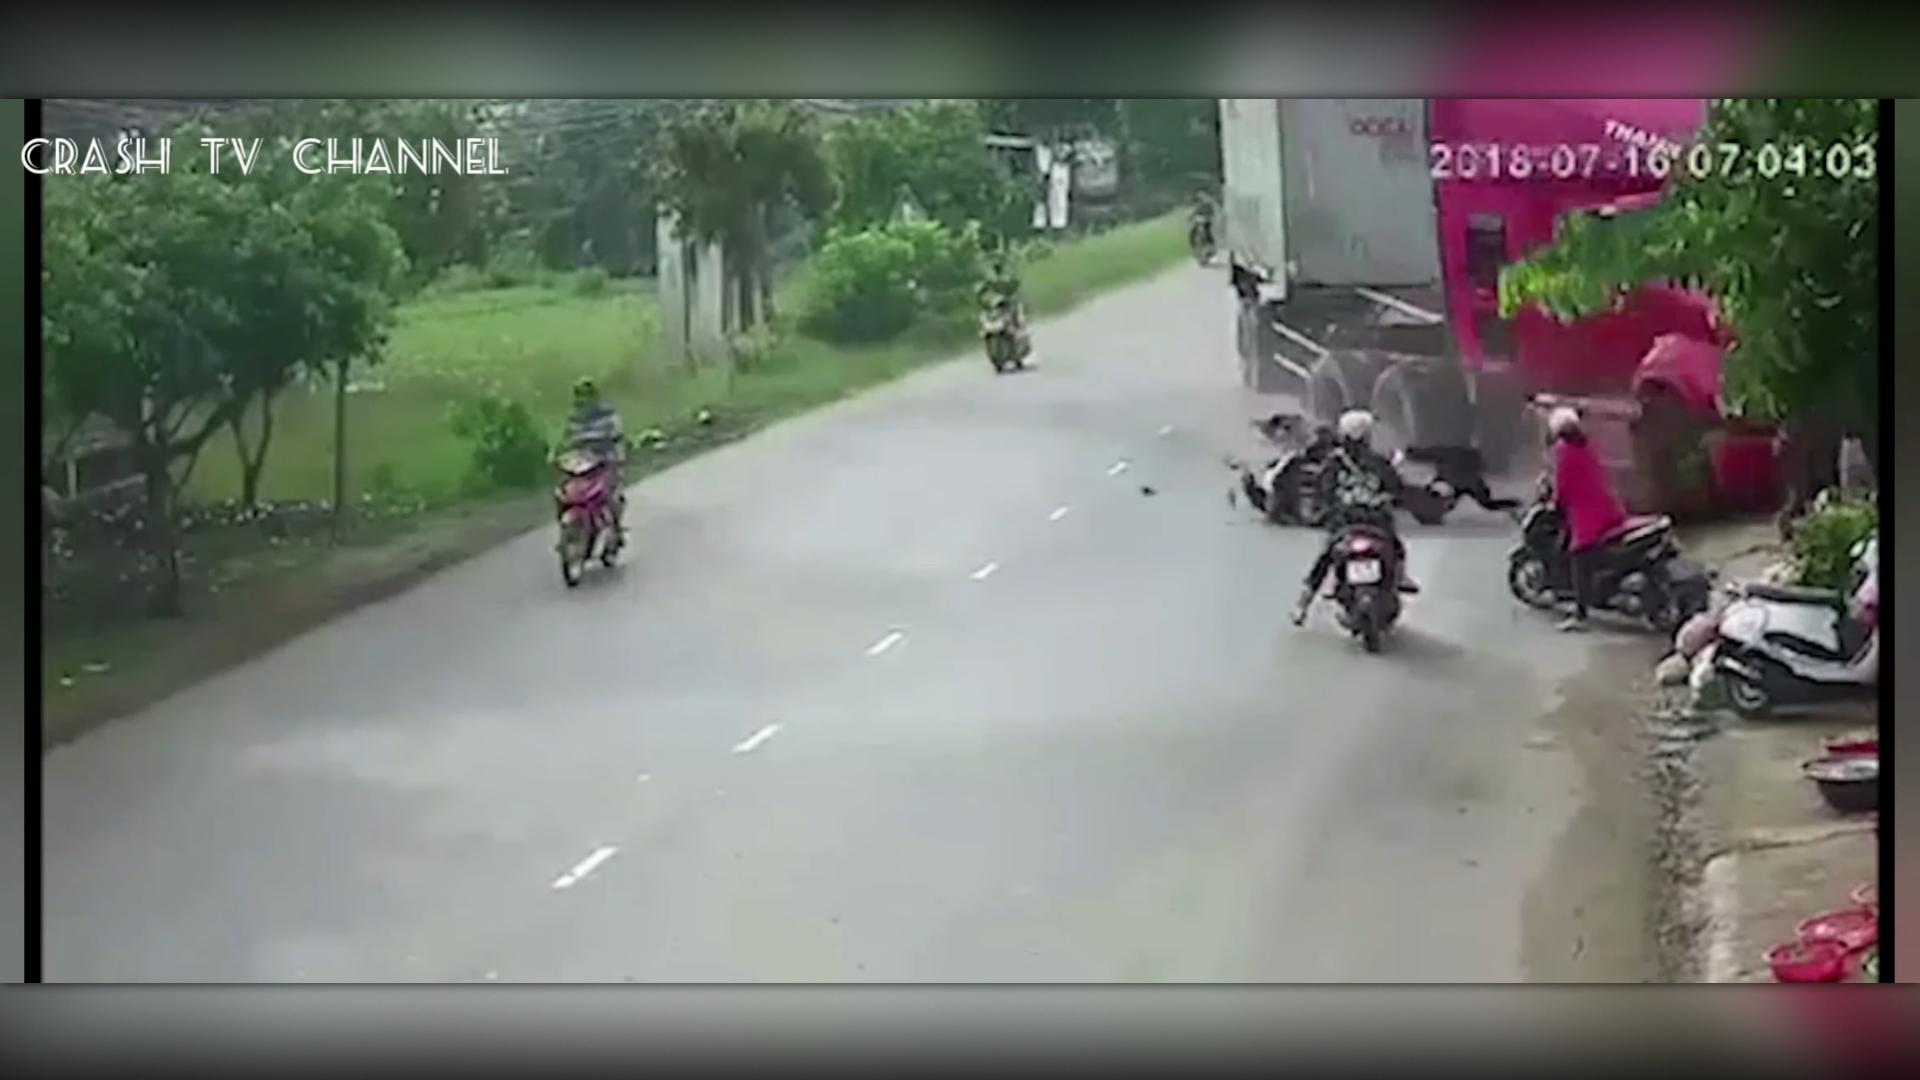accident: (1154, 332, 1606, 553), (1221, 407, 1516, 546)
motorcycle: (1499, 386, 1714, 640), (537, 369, 673, 587), (1304, 401, 1416, 663), (956, 255, 1065, 367)
truck: (1205, 92, 1826, 480)
